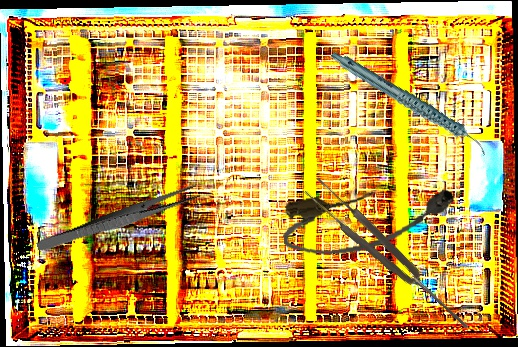Cannula: (278, 178, 460, 262)
Dressing Forceps: (35, 182, 201, 257)
Handpiece: (329, 23, 490, 184)
Tissue Forceps: (302, 175, 476, 338)
